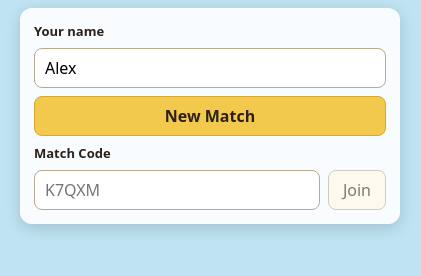
it: HomePanel › says so when creating fails
What coordinates should you click on to do the following:
click the button "New Match"
I would click on:
 (210, 116)
Its box is top-left (34, 96), bottom-right (386, 136).
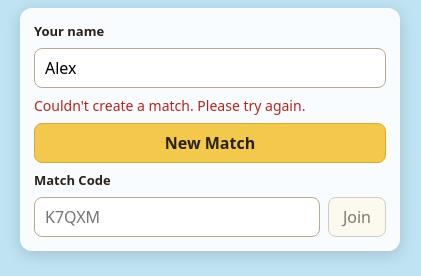
Expected: the button "New Match" is enabled, top-left (34, 123), bottom-right (386, 163)
Now the message shows "Couldn't create a match", box top-left (34, 96), bottom-right (305, 115)
